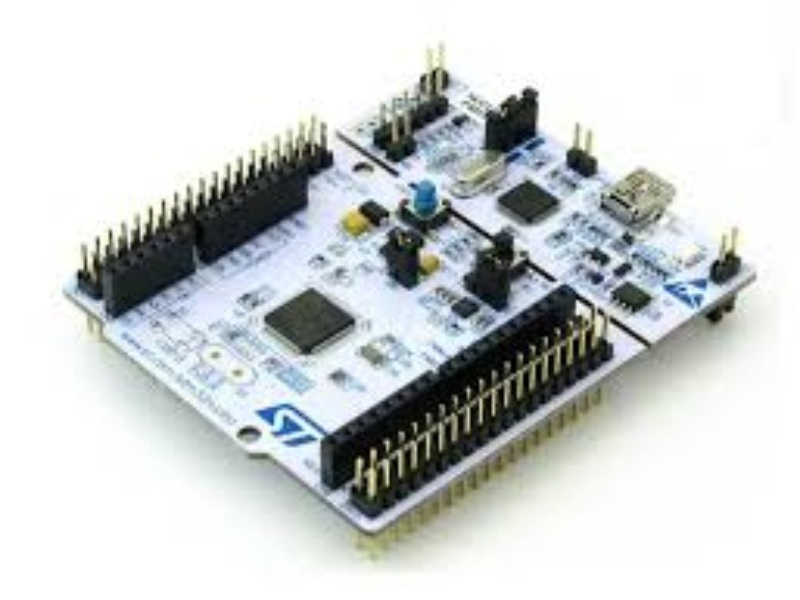stmnucleo: (44, 53, 772, 503)
